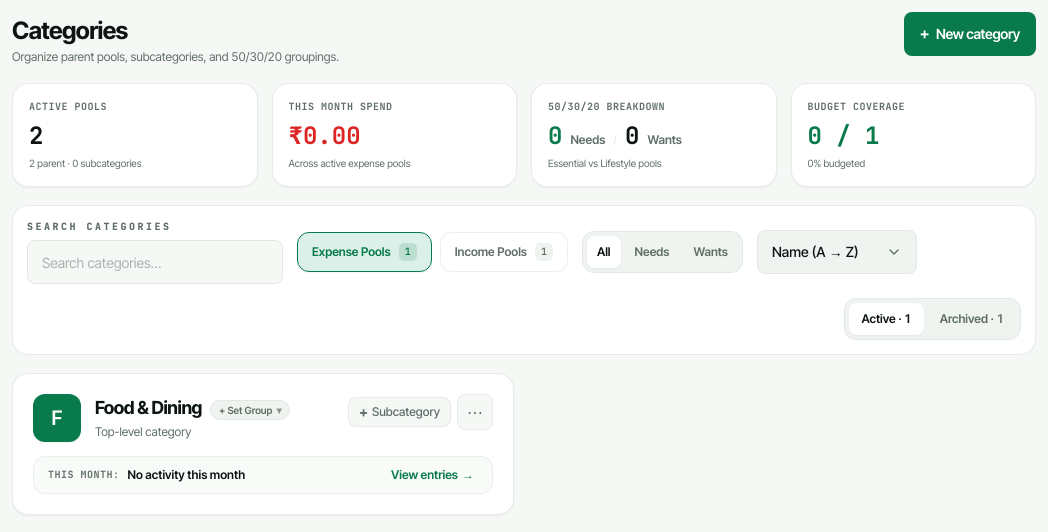
Test: CategoryManager › groups categories by kind under parent cards and hides archived ones
Expected: the heading "Food & Dining" is shown, [95,394,202,422]
Expected: the text "Salary" is not shown
Click the button "Income Pools 1".
click(504, 252)  # box [440,232,568,272]
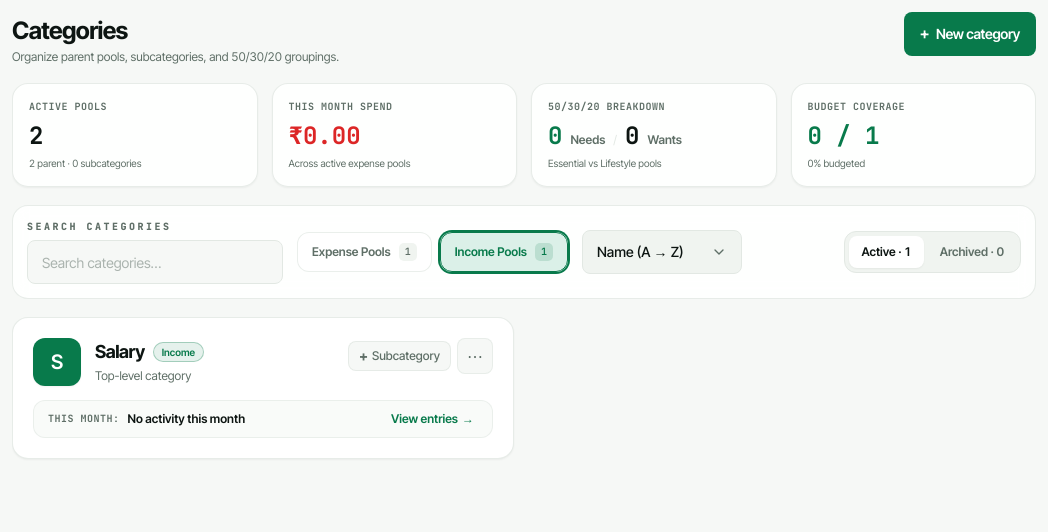
Now the heading "Salary" is shown, box [95,338,145,366]
Now the heading "Food & Dining" is gone
